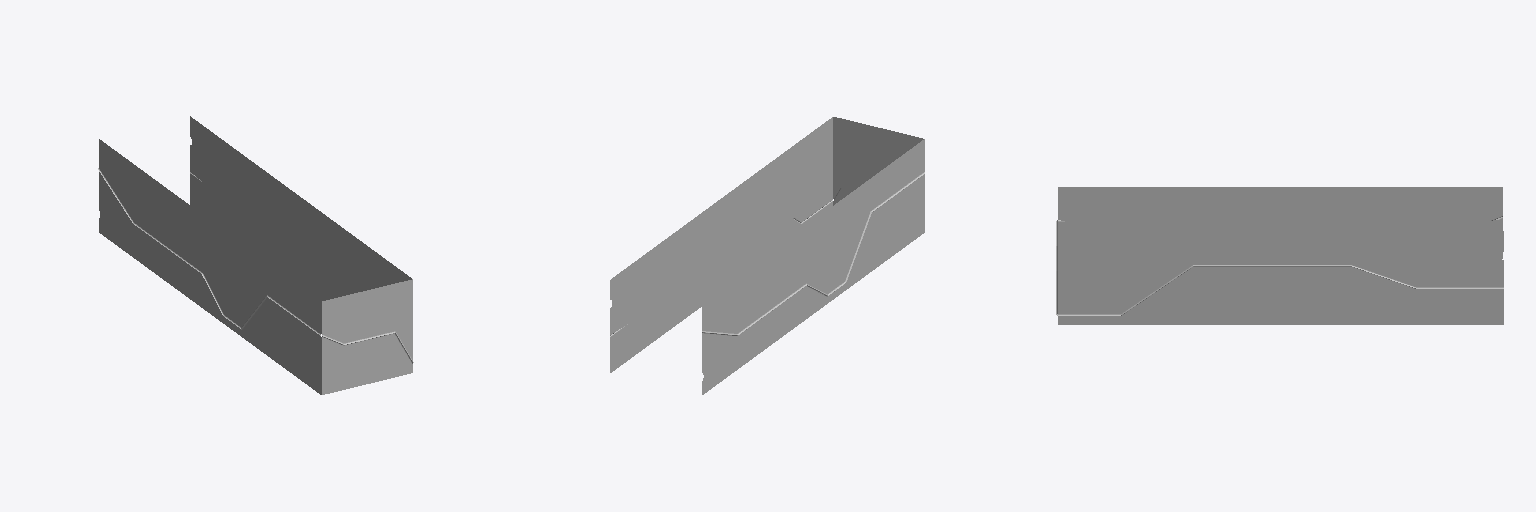
File: StartingAreaWalls.obj
3 renders of one model, left to right at view 1: azimuth 30°, elevation 25°; view 2: azimuth 150°, elevation 25°; view 3: azimuth 270°, elevation 25°, orthographic.
Parts seen in each view (by area): view 1: Plane.002_Plane.003; view 2: Plane.002_Plane.003; view 3: Plane.002_Plane.003.
Part boxes in pixels (x1,y1,x2,y2): Plane.002_Plane.003: (98,116,413,394); Plane.002_Plane.003: (610,117,924,394); Plane.002_Plane.003: (1056,187,1503,324).
Size of the model in its own units: 8.03 by 7.7 by 33.24.